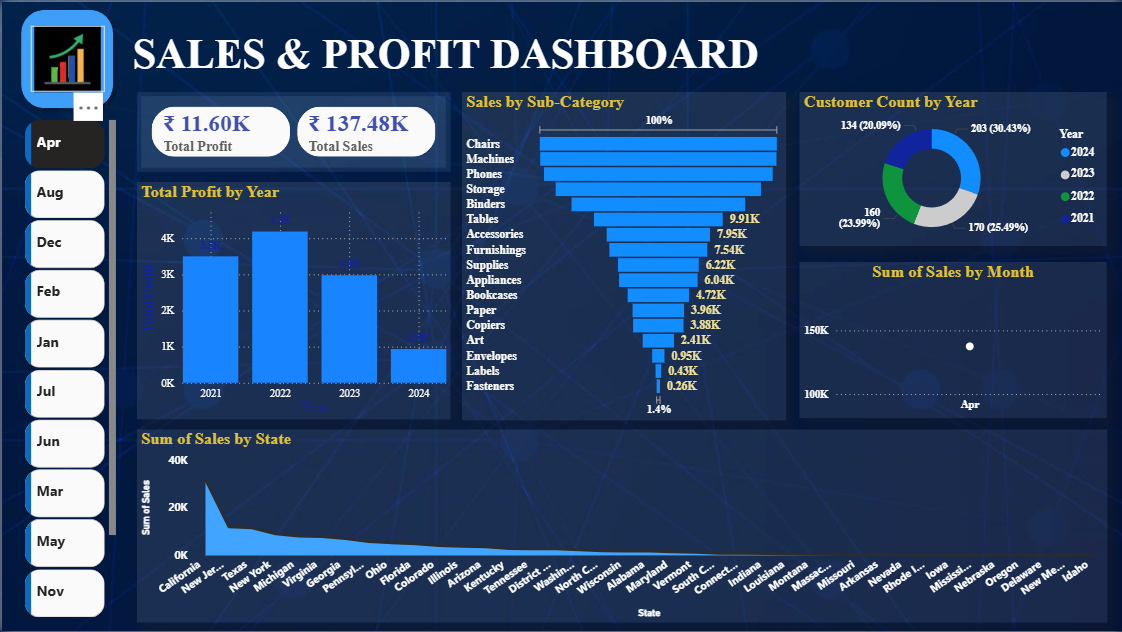

What the dashboard file says about the page in this screenshot:
{"tool":"powerbi","page":{"name":"Page 1","canvas":[1280,720],"ordinal":0},"visuals":[{"type":"shape","box":[13.3,0,123.1,130.3],"z":0},{"type":"advancedSlicerVisual","fields":{"Values":["Sheet1.Month"]},"box":[21.7,130.3,114.6,579.1],"z":2000},{"type":"cardVisual","fields":{"Data":["Sum(Sheet1.Profit)","Sum(Sheet1.Sales)"]},"box":[153.8,102.5,358.8,91.2],"z":4000},{"type":"funnel","title":"Sales by Sub-Category","fields":{"Category":["Sheet1.Sub-Category"],"Y":["Sum(Sheet1.Sales)"]},"box":[526.2,102.5,370,375],"z":5000},{"type":"clusteredColumnChart","fields":{"Category":["Sheet1.Year"],"Y":["Sum(Sheet1.Profit)"]},"box":[153.8,206.2,358.8,271.2],"z":6000},{"type":"donutChart","title":"Customer Count  by Year","fields":{"Category":["Sheet1.Year"],"Y":["CountNonNull(Sheet1.Customer Name)"]},"box":[911.2,102.5,351.2,176.2],"z":8000},{"type":"textbox","box":[144.8,26.5,751.6,76],"z":10000},{"type":"lineChart","fields":{"Y":["Sum(Sheet1.Sales)"],"Category":["Sheet1.Month"]},"box":[910.9,296.9,351.6,178.1],"z":11000},{"type":"stackedAreaChart","fields":{"Y":["Sum(Sheet1.Sales)"],"Category":["Sheet1.State"]},"box":[153.7,488.5,1108.8,220.9],"z":12000},{"type":"image","box":[32.6,26.5,84.5,76],"z":13000}]}

Visuals, with their boxes in screenshot pixels (x1, y1, x2, y2), scaled from the page's 1280x720 canvas onto the 1122x632 screenshot:
shape: <box>12,0,120,114</box>
advancedSlicerVisual - Sheet1.Month: <box>19,114,119,623</box>
cardVisual - Sum(Sheet1.Profit) x Sum(Sheet1.Sales): <box>135,90,449,170</box>
"Sales by Sub-Category" funnel: <box>461,90,786,419</box>
clusteredColumnChart - Sheet1.Year x Sum(Sheet1.Profit): <box>135,181,449,419</box>
"Customer Count  by Year" donutChart: <box>799,90,1107,245</box>
textbox: <box>127,23,786,90</box>
lineChart - Sum(Sheet1.Sales) x Sheet1.Month: <box>798,261,1107,417</box>
stackedAreaChart - Sum(Sheet1.Sales) x Sheet1.State: <box>135,429,1107,623</box>
image: <box>29,23,103,90</box>
